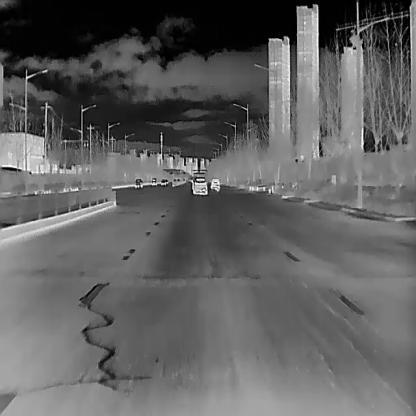car: (192, 176, 207, 194), (209, 177, 220, 192), (133, 178, 143, 188), (151, 177, 157, 185), (159, 178, 166, 184)
